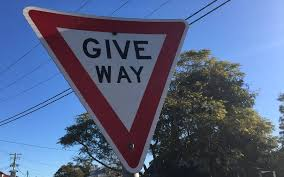giveway: (20, 4, 190, 175)
